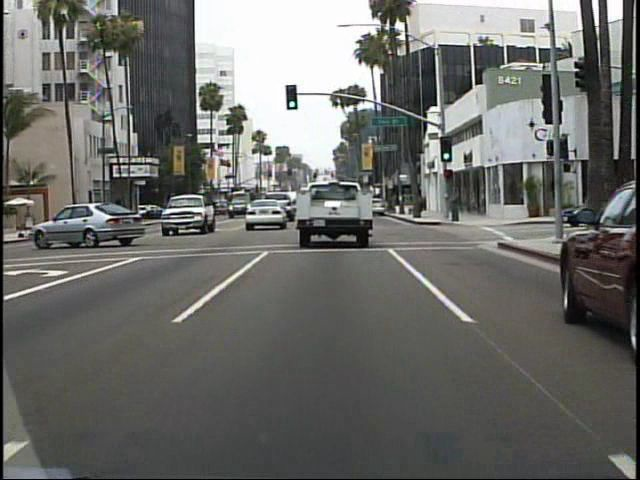person: (447, 183, 464, 225)
